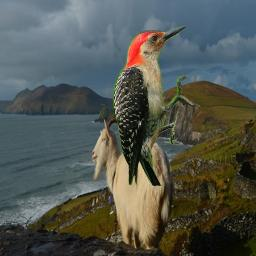Woodpecker: (113, 26, 198, 186)
